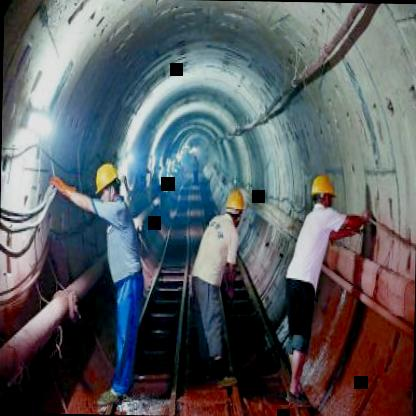helmet: (93, 160, 120, 208), (309, 170, 336, 209), (225, 187, 246, 228)
